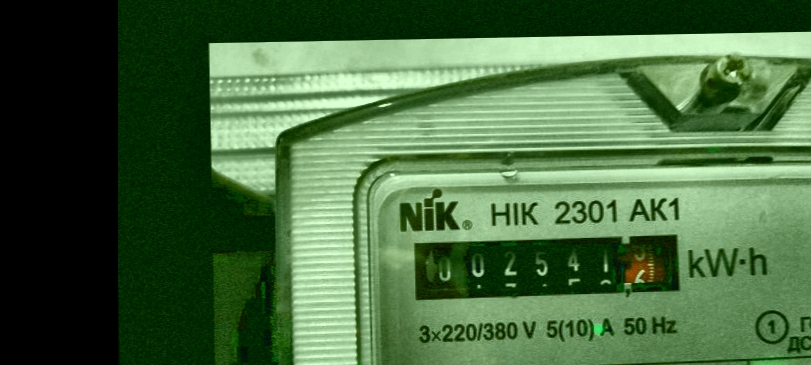0: (468, 248, 488, 281), (437, 255, 455, 284)
1: (596, 243, 613, 276)
2: (499, 246, 521, 281)
4: (565, 244, 583, 276)
5: (533, 248, 550, 280)
6: (632, 266, 648, 287)
screen: (400, 221, 702, 317)
